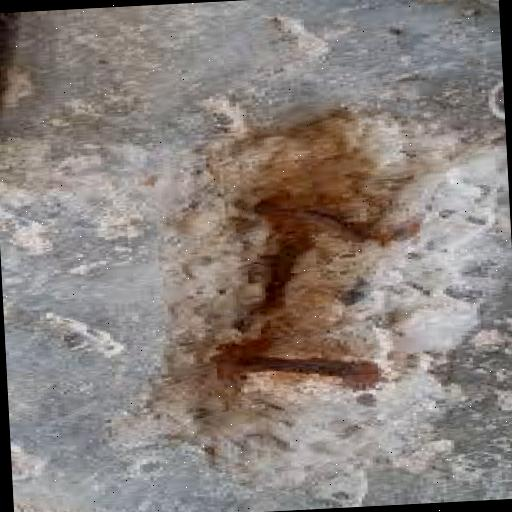spalling: (140, 112, 453, 452)
